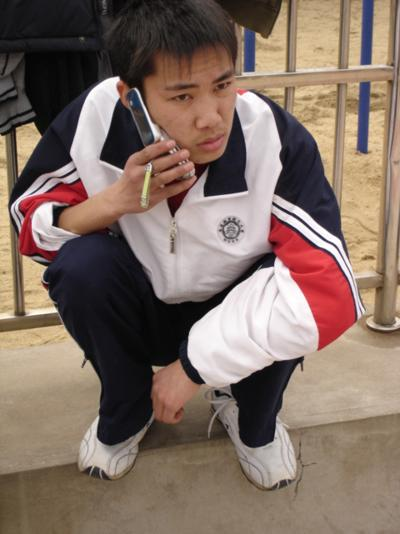person: (10, 3, 363, 489)
